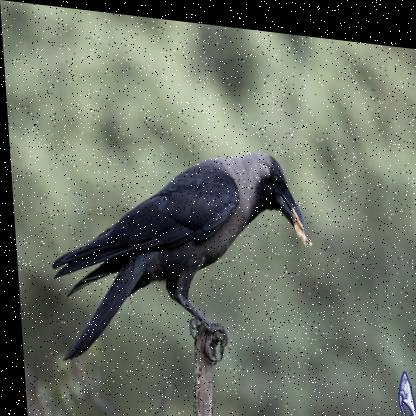Burung: (40, 124, 309, 383)
